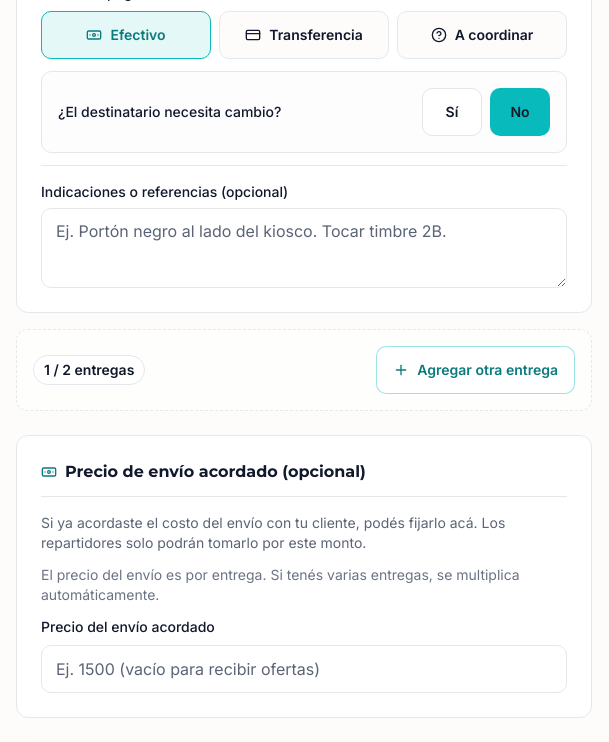
Test case: T-340: CreateRequestForm multi-drop › respeta el tope dinámico recibido por props deshabilitando el botón agregar al alcanzarlo
(page scrolled)
// Agregar segunda entrega (alcanza tope de 2)
Click the button "Agregar otra entrega". click: (476, 370)
box: [376,346,575,394]
(page scrolled)
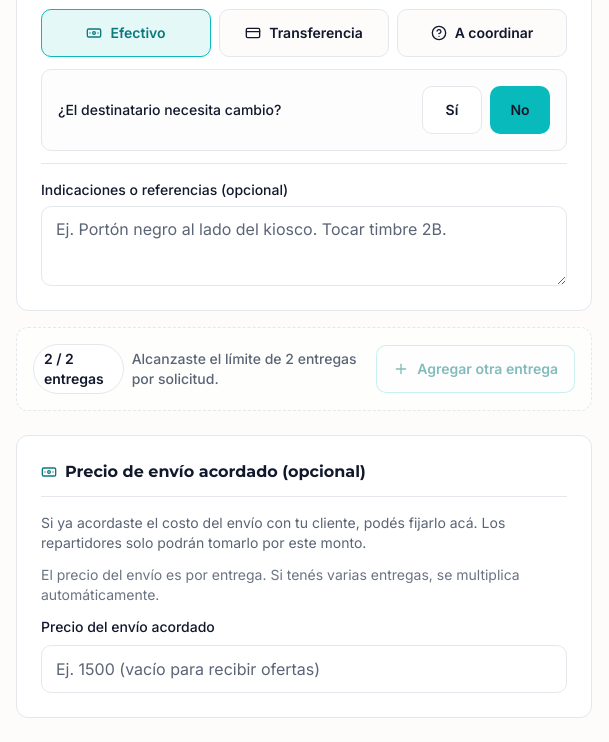
Expected: the button "Agregar otra entrega" is disabled, [376,345,575,393]
Expected: the text "Alcanzaste el límite de 2 entregas por solicitud." is shown, [132,349,364,389]
